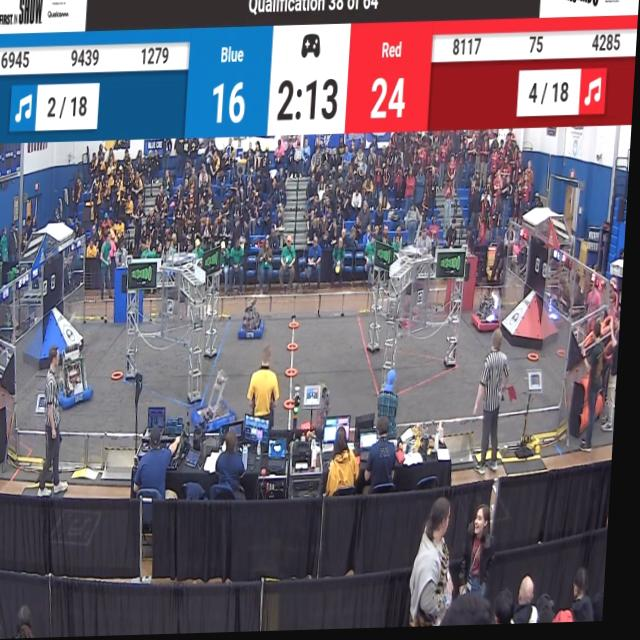Robot: (60, 333, 103, 412), (199, 366, 244, 439), (473, 289, 505, 340), (398, 278, 424, 337), (241, 300, 271, 347)
